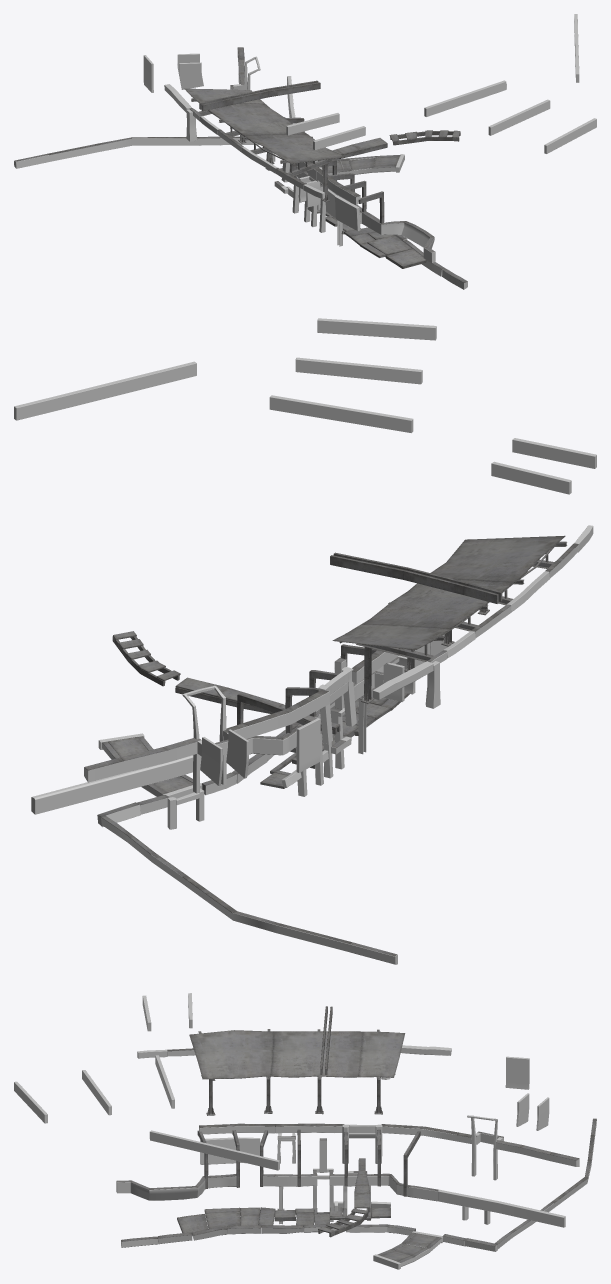
The model's file is SM_CorridorSculpture_02_00.fbx.
3 renders of one model, top to bottom at view 1: azimuth 30°, elevation 25°; view 2: azimuth 150°, elevation 25°; view 3: azimuth 270°, elevation 25°, orthographic. The views are drawn at different scales.
Visible parts, largest first — view 1: SM_CorridorSculpture_02_00; view 2: SM_CorridorSculpture_02_00; view 3: SM_CorridorSculpture_02_00.
Part boxes in pixels (x1,y1,x2,y2): SM_CorridorSculpture_02_00: (14, 14, 596, 289); SM_CorridorSculpture_02_00: (14, 318, 596, 964); SM_CorridorSculpture_02_00: (14, 993, 596, 1269).
Size of the model in its own units: 6835 by 2785 by 8086.
